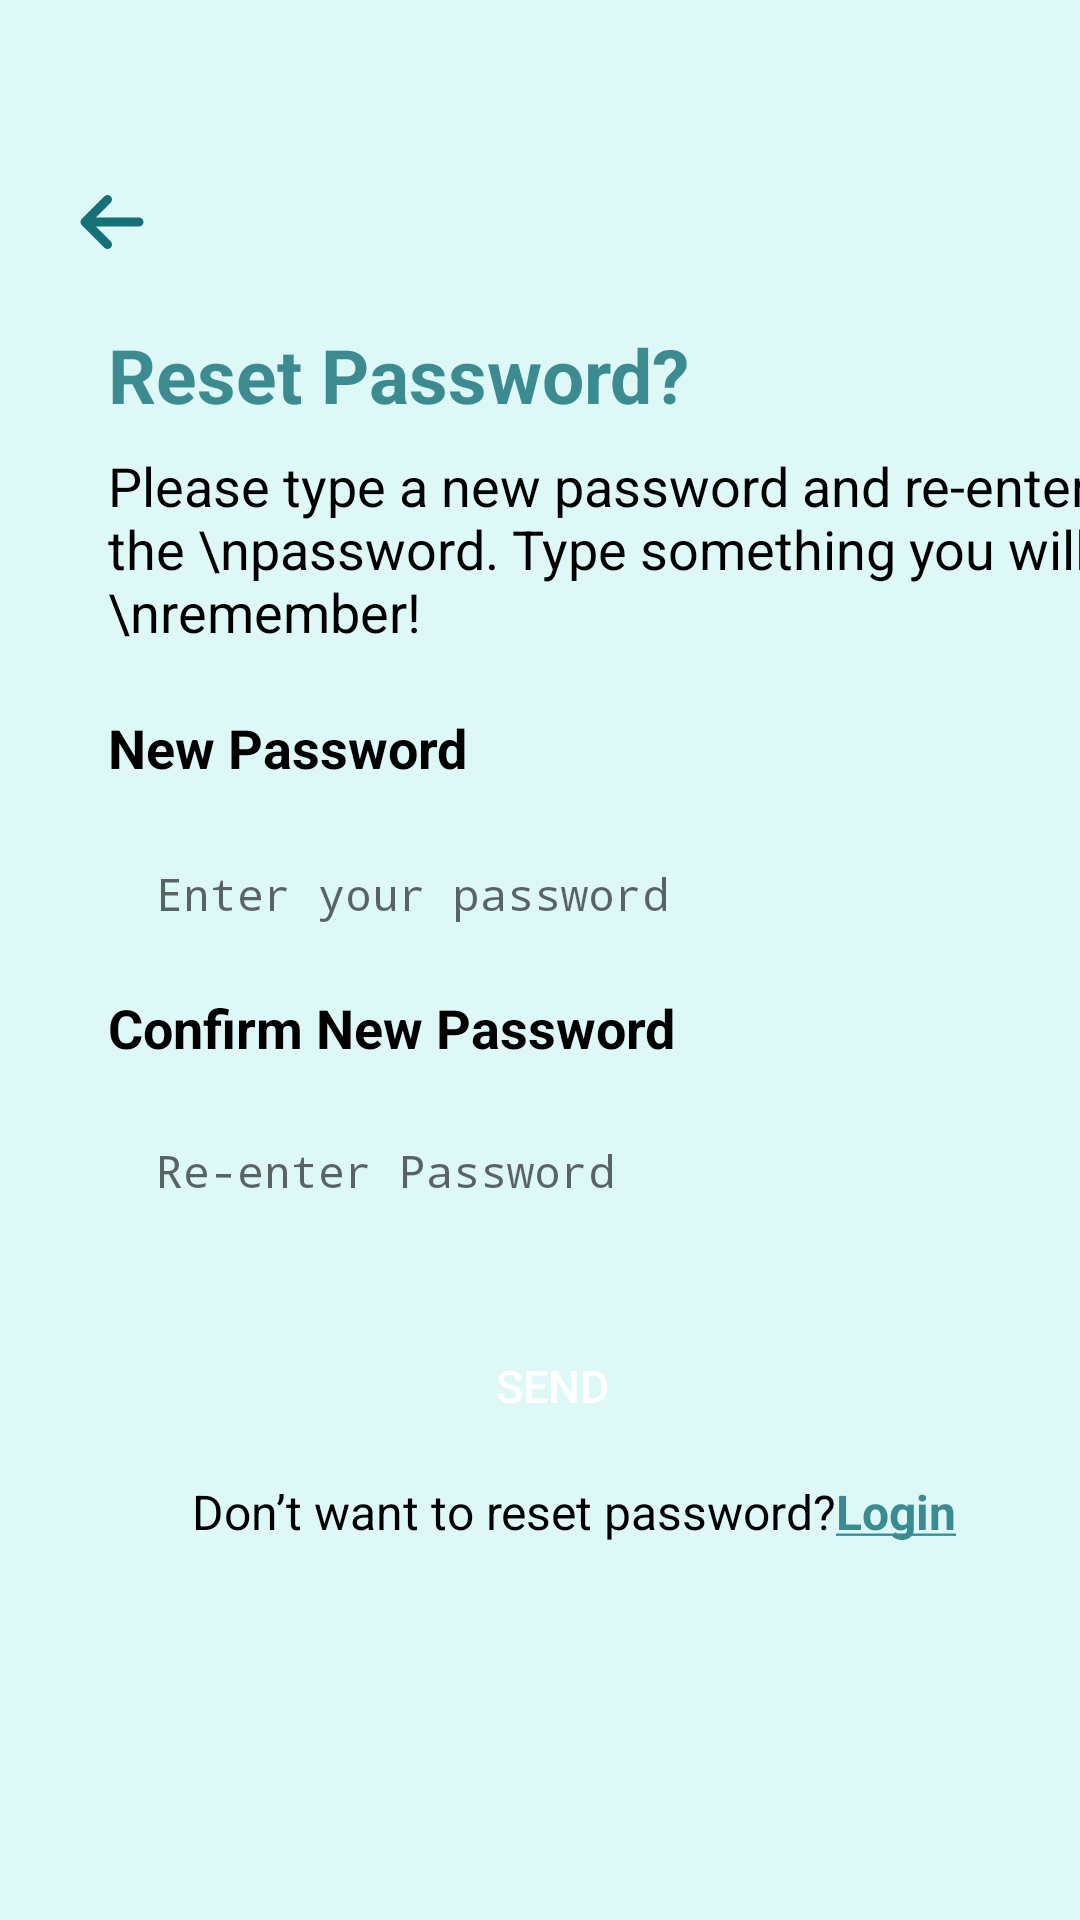

Icons on this 1080×1920 Android screen, each with the point to tap as (x,y):
leftarrow: (112,222)
